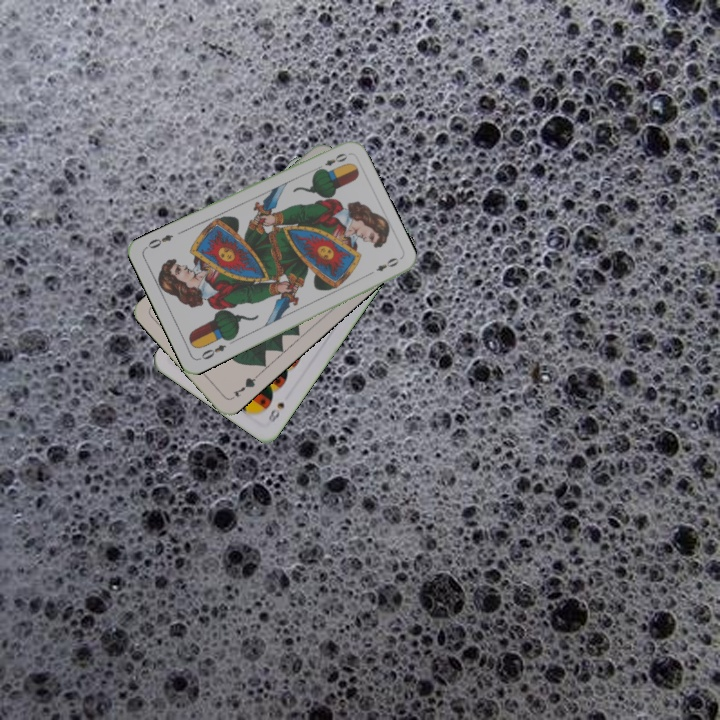EO: (312, 149, 350, 174), (195, 340, 229, 363)
G7: (227, 371, 260, 402)
S8: (264, 398, 287, 425)
